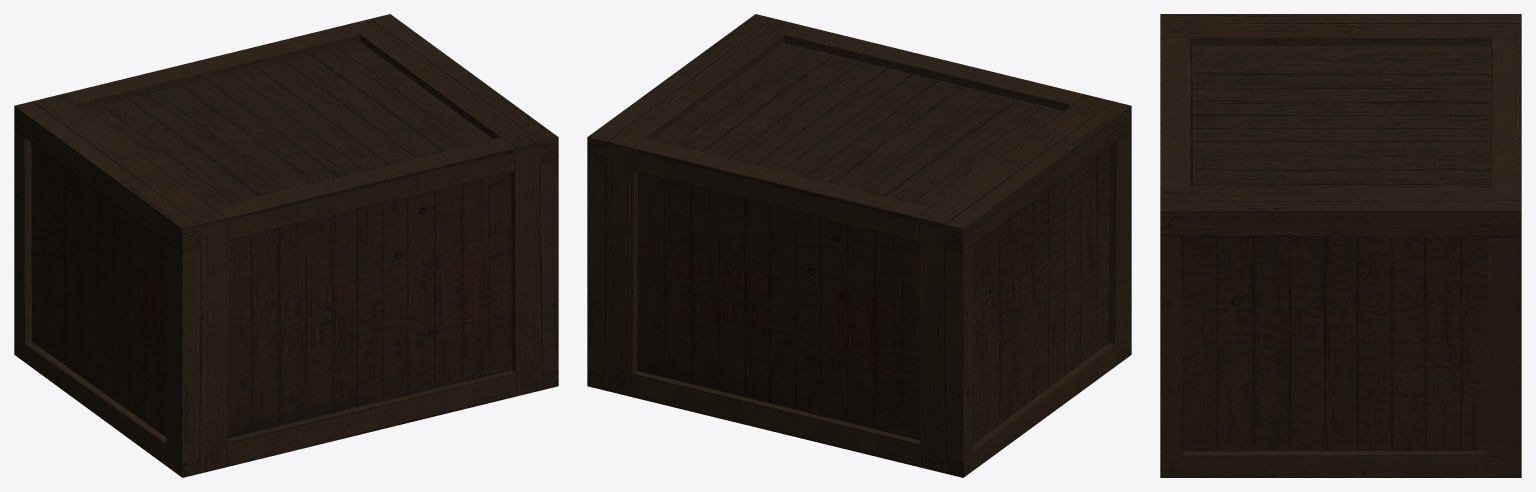
Rendered from wooden_crate_1.glb.
3 renders of one model, left to right at view 1: azimuth 30°, elevation 25°; view 2: azimuth 150°, elevation 25°; view 3: azimuth 270°, elevation 25°, orthographic. The views are drawn at different scales.
Parts seen in each view (by area): view 1: wooden_crate_1; view 2: wooden_crate_1; view 3: wooden_crate_1.
Boxes of the visible parts, <box> form: wooden_crate_1: <box>14,14,558,477</box>; wooden_crate_1: <box>587,14,1131,477</box>; wooden_crate_1: <box>1160,14,1521,477</box>.
Bounding box in the file's own units: 1.47 × 0.93 × 1.14.
Materials: 1 (1 with a texture image).
